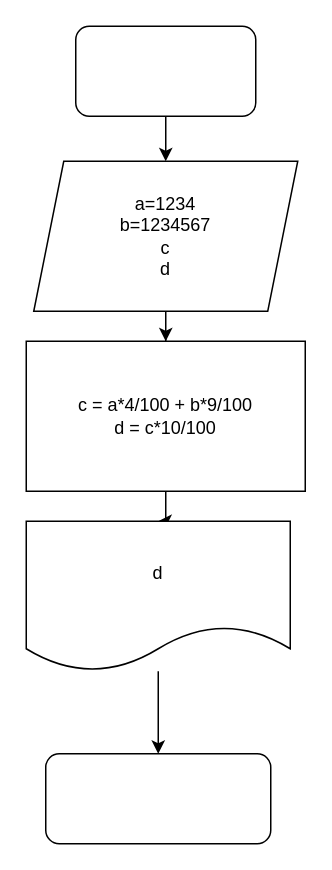
Image size: 332x870. Some labels were removed from this diagram. Here are the shapes that lost their labels. From the top down, the box of each, then its label:
(74, 25, 256, 116): programm
(44, 752, 271, 844): finish
